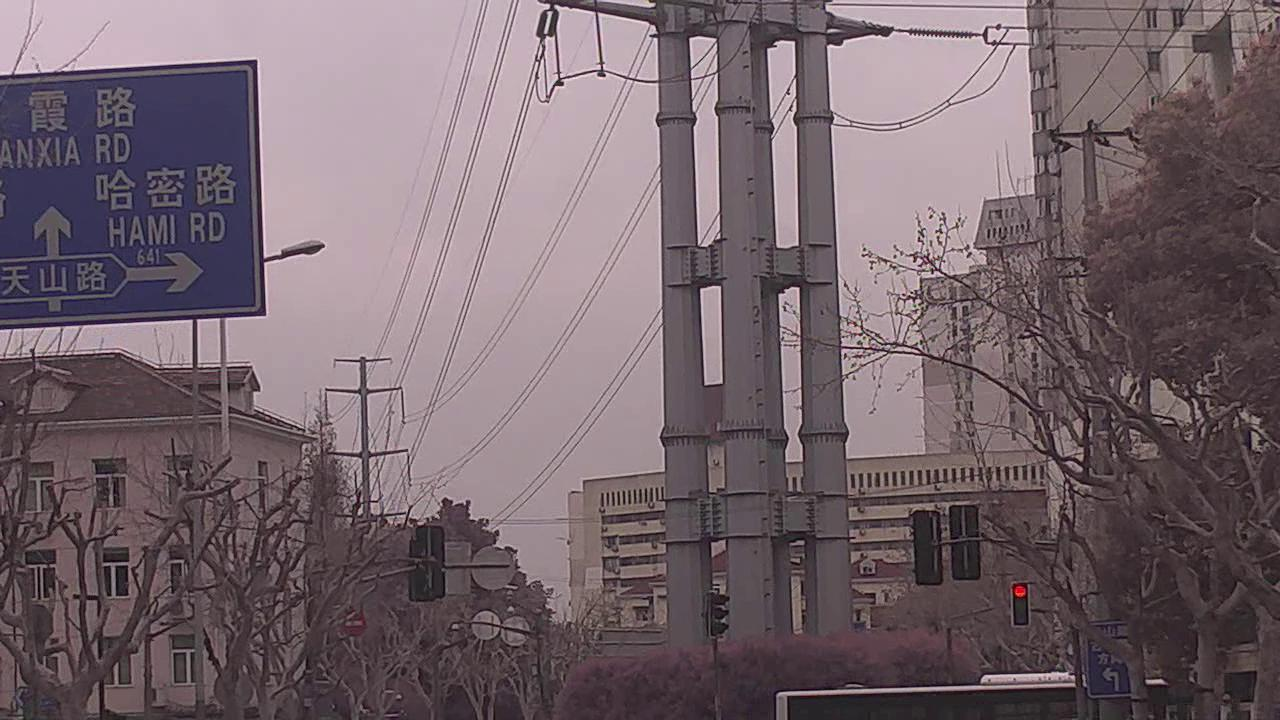traffic_light: (1012, 579, 1031, 624)
